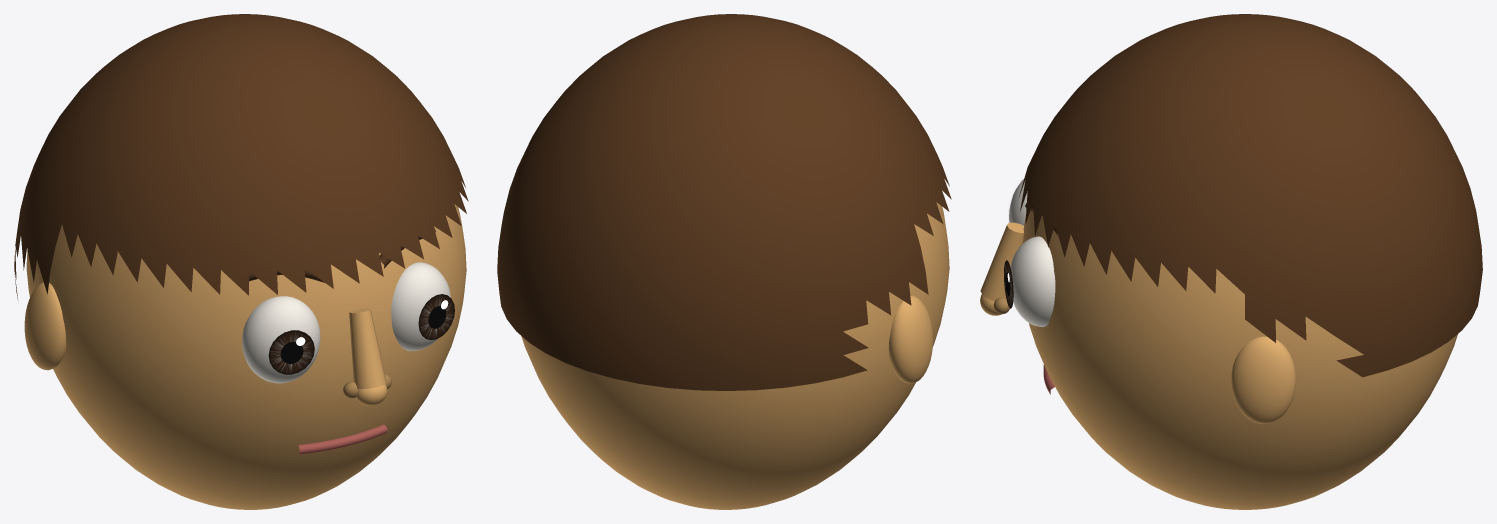
The model's file is homme-02-rases.glb.
3 renders of one model, left to right at view 1: azimuth 30°, elevation 25°; view 2: azimuth 150°, elevation 25°; view 3: azimuth 270°, elevation 25°, orthographic.
Size of the model in its own units: 0.3087 by 0.329 by 0.3247.
Materials: 10 (1 with a texture image).
